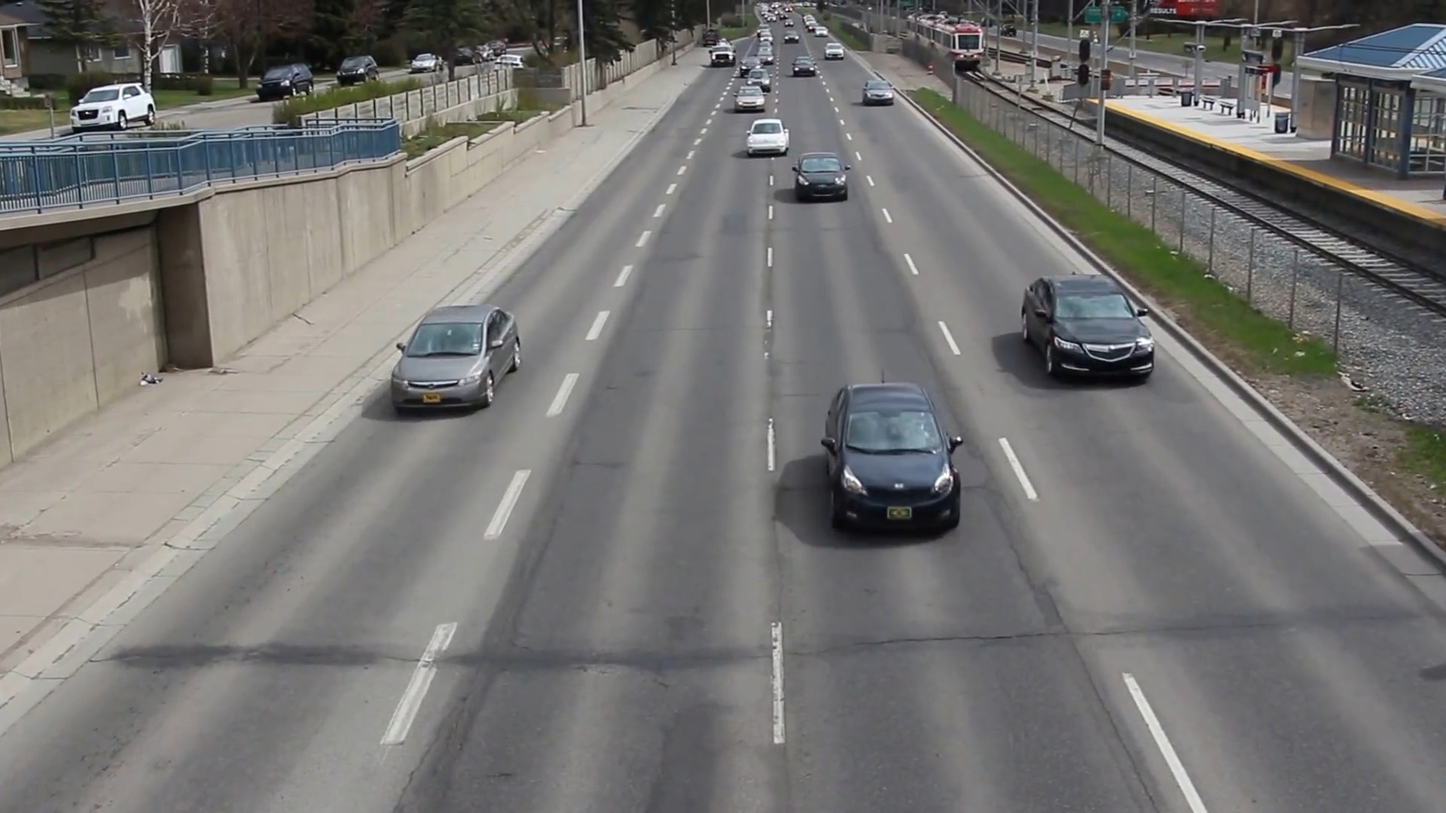car: (816, 386, 969, 542), (1013, 269, 1167, 387), (392, 298, 524, 425), (780, 151, 861, 200)
